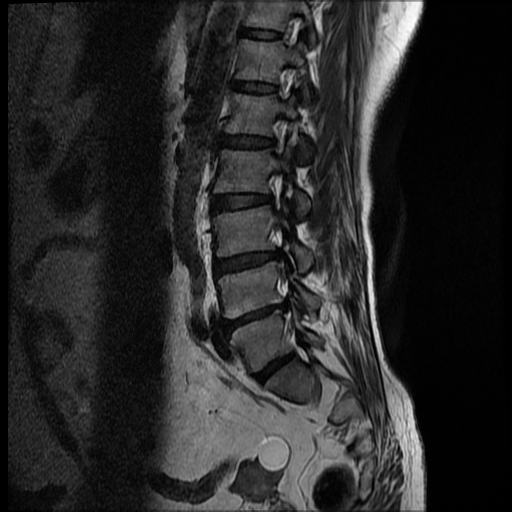LFS0: (257, 107, 296, 161), (252, 165, 293, 216)
